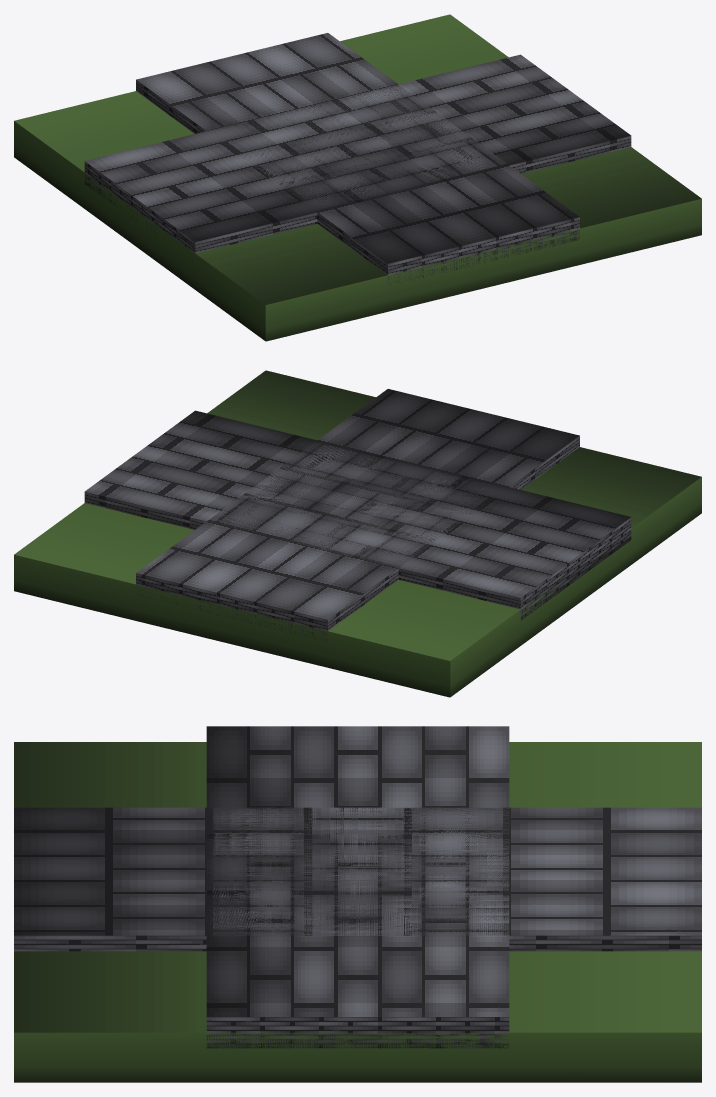
Rendered from path_cross.gltf.
3 renders of one model, top to bottom at view 1: azimuth 30°, elevation 25°; view 2: azimuth 150°, elevation 25°; view 3: azimuth 270°, elevation 25°, orthographic. The views are drawn at different scales.
Parts seen in each view (by area): view 1: path_cross; view 2: path_cross; view 3: path_cross.
Part boxes in pixels (bbox=[...]): path_cross: bbox=[14, 14, 701, 341]; path_cross: bbox=[14, 370, 701, 697]; path_cross: bbox=[14, 726, 701, 1082].
Size of the model in its own units: 1 by 0.105 by 1.
Materials: 1 (1 with a texture image).
